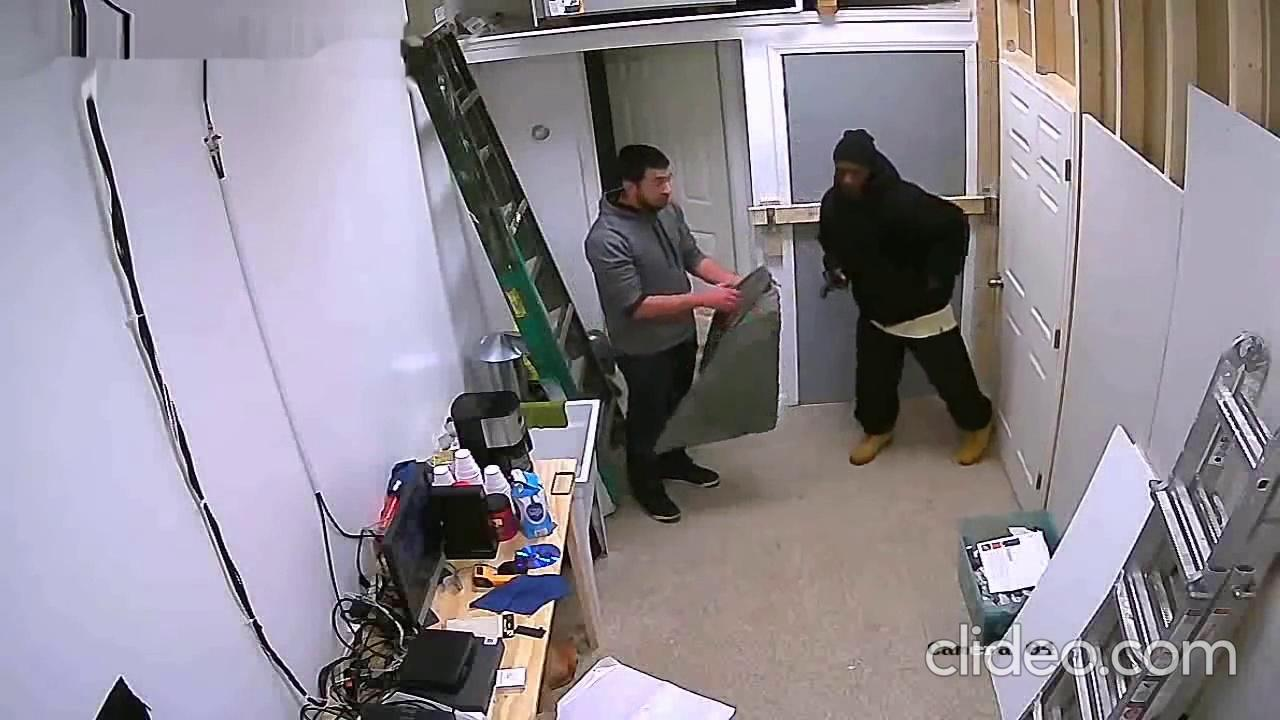person: (584, 142, 749, 525), (816, 128, 998, 467)
pistol: (819, 266, 850, 301)
